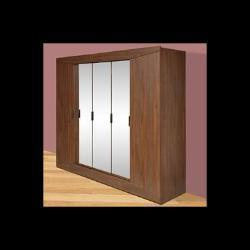Armario: (53, 45, 190, 204)
